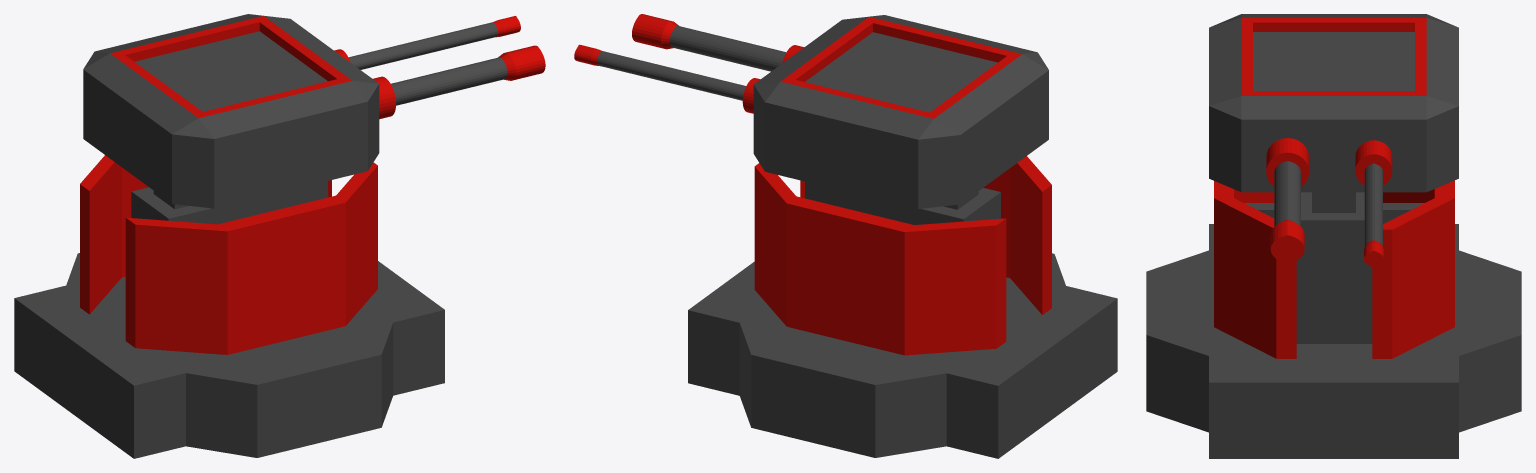
File: defaultTurret.fbx
3 renders of one model, left to right at view 1: azimuth 30°, elevation 25°; view 2: azimuth 150°, elevation 25°; view 3: azimuth 270°, elevation 25°, orthographic. The views are drawn at different scales.
Parts seen in each view (by area): view 1: Cube, Cube.001; view 2: Cube, Cube.001; view 3: Cube, Cube.001.
Boxes of the visible parts, left/top/right/bottom form: Cube: left=14, top=155, right=444, bottom=458; Cube.001: left=83, top=14, right=545, bottom=208; Cube: left=688, top=156, right=1117, bottom=458; Cube.001: left=574, top=14, right=1048, bottom=208; Cube: left=1146, top=180, right=1521, bottom=458; Cube.001: left=1209, top=14, right=1458, bottom=267.
Size of the model in its own units: 445 by 286 by 300.
